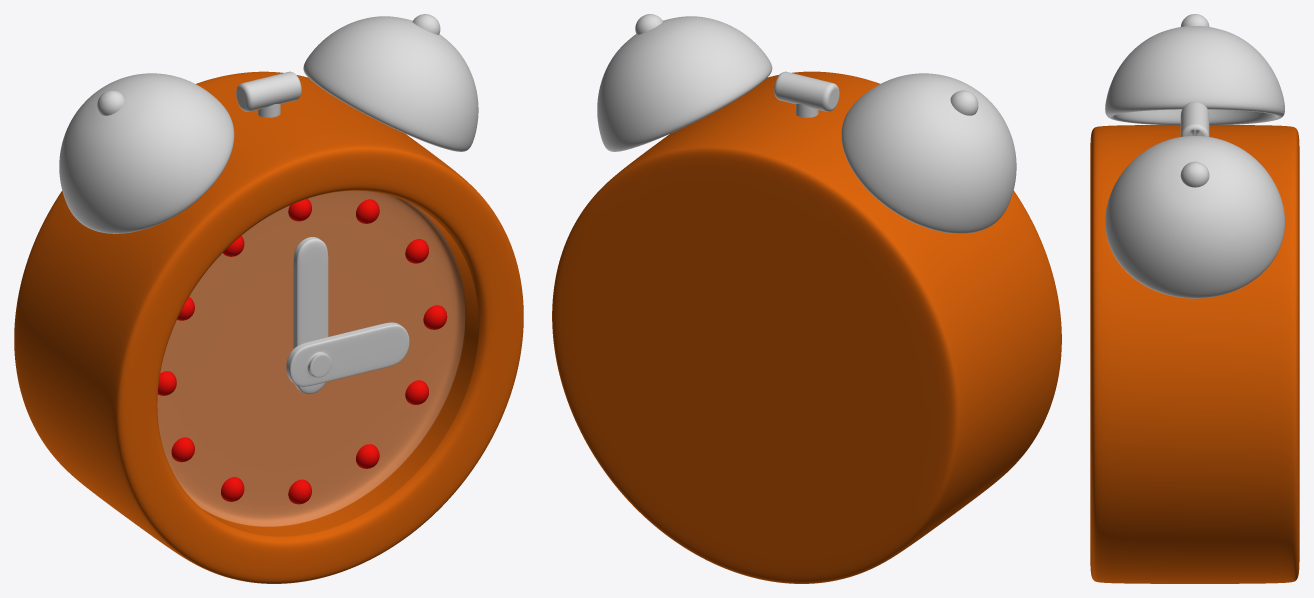
Rendered from clock.glb.
The picture shows the model from 3 angles, left to right: view 1: azimuth 30°, elevation 25°; view 2: azimuth 150°, elevation 25°; view 3: azimuth 270°, elevation 25°; orthographic projection. The views are drawn at different scales.
Parts seen in each view (by area): view 1: Clock; view 2: Clock; view 3: Clock.
Part boxes in pixels (left/top/right/bottom): Clock: left=14, top=14, right=523, bottom=583; Clock: left=552, top=14, right=1061, bottom=583; Clock: left=1090, top=14, right=1299, bottom=583.
Size of the model in its own units: 1.68 by 1.91 by 0.7642.
